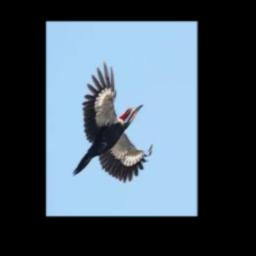Woodpecker: (73, 61, 153, 182)
